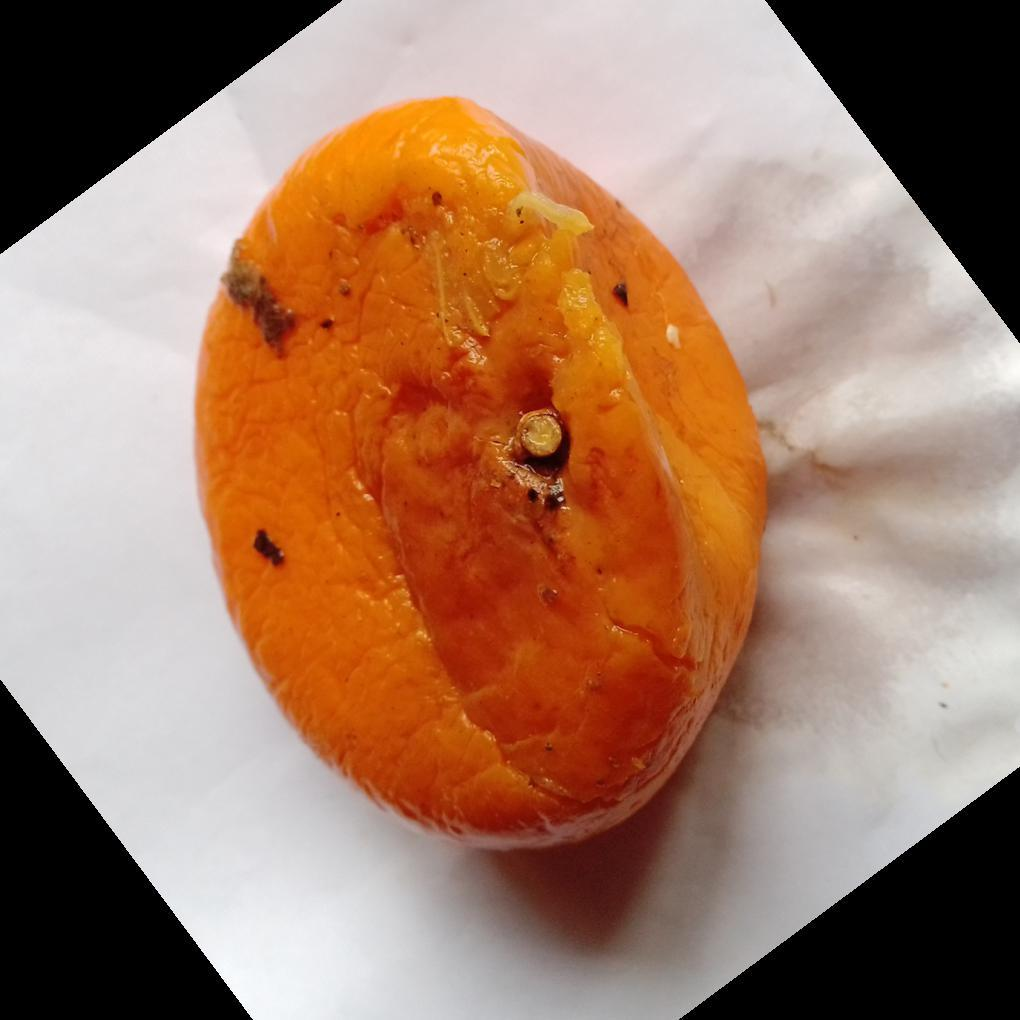FreshOrange: (189, 96, 770, 854)
